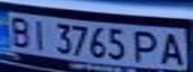3: (48, 20, 75, 55)
5: (106, 25, 133, 62)
6: (87, 25, 109, 60)
7: (66, 23, 90, 57)
A: (157, 30, 190, 66)
B: (3, 14, 36, 48)
I: (27, 17, 54, 52)
P: (130, 28, 163, 63)
